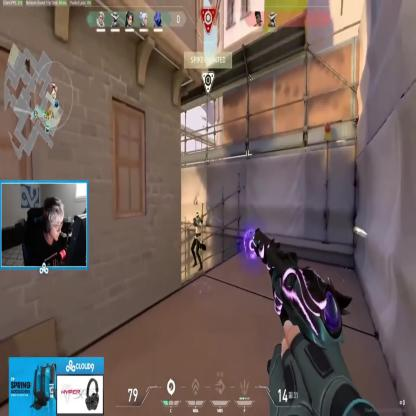enemy: (192, 211, 202, 272)
enemy_head: (196, 212, 199, 218)
